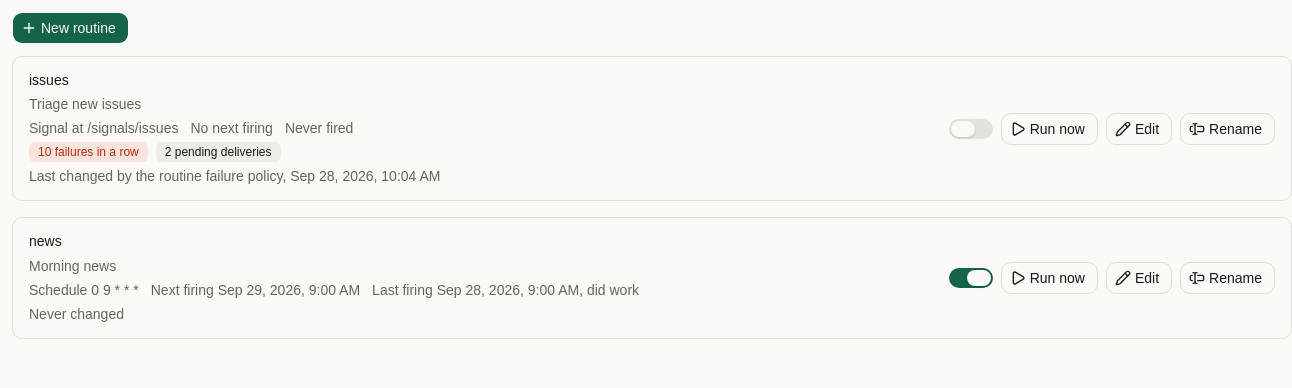
Test: RoutinesSection › runs a routine now
Click the button "Run now" in the row of "Morning news": x=1049, y=278 [1001,262,1098,294]
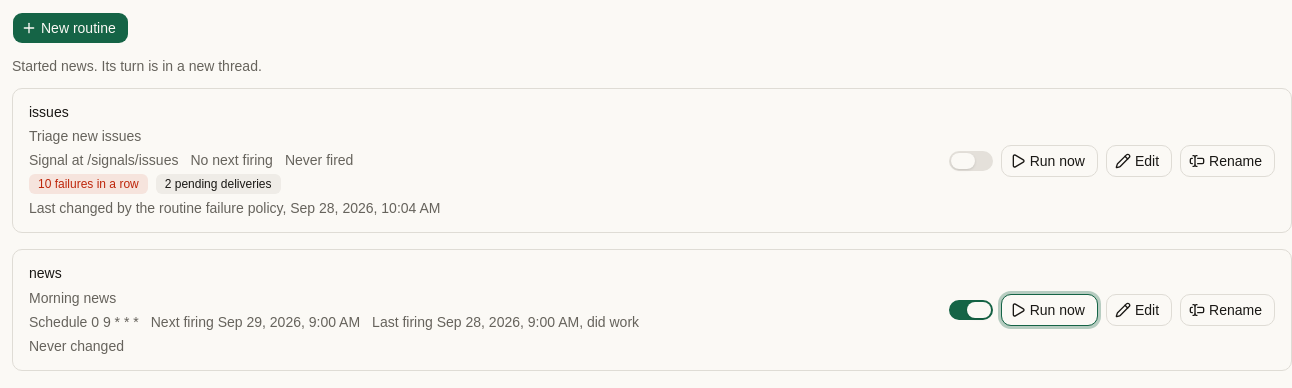
Check: the text "Started news. Its turn is in a new thread." is shown, box [12,58,262,74]
